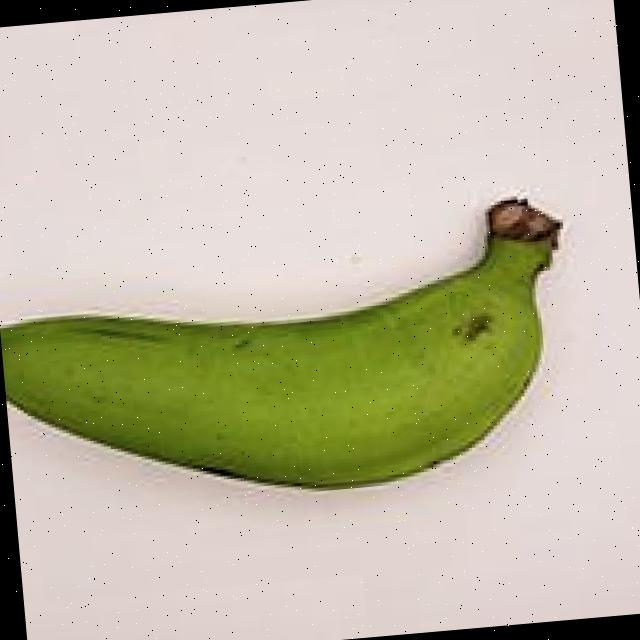Raw: (0, 157, 640, 554)
